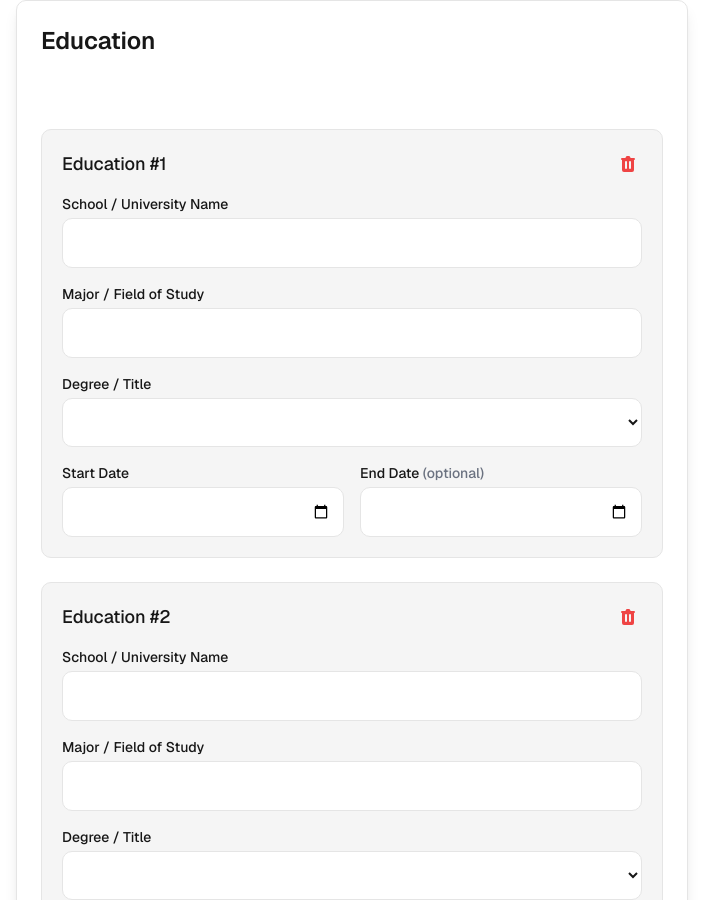
Test: EducationForm Component › Dynamiczne zarządzanie listą (FieldArray) › powinien pozwolić usunąć wpis
The width and height of the screenshot is (705, 900).
Expected: the 1st field showing "Szkoła 1" is shown, [62,218,642,268]
Expected: the 2nd field showing "Szkoła 2" is shown, [62,671,642,721]
Click the 1st button named "Remove education" at coordinates (628, 164), box [614,150,642,178]
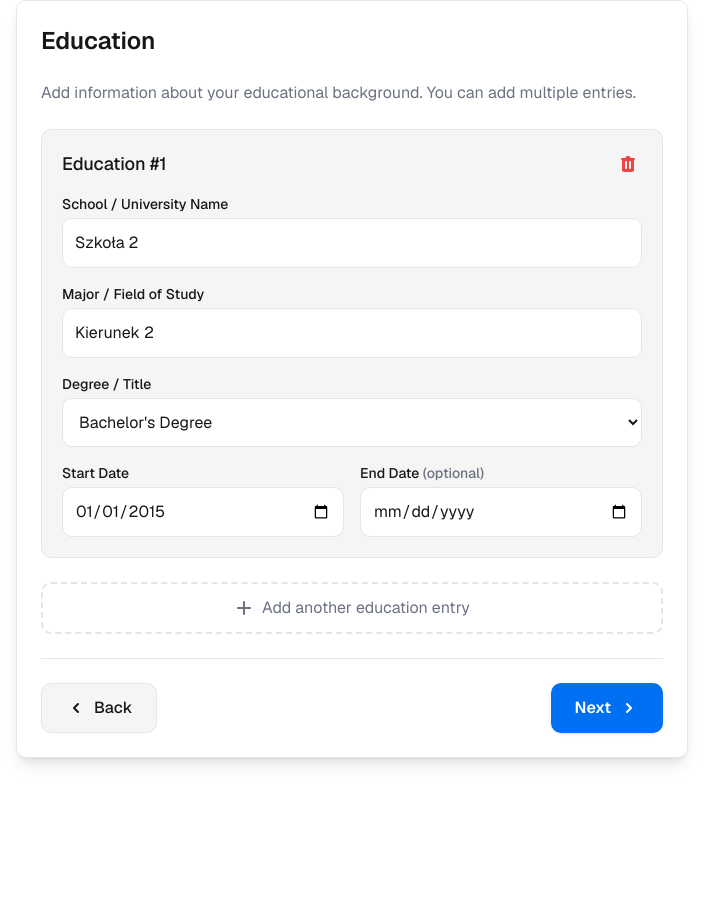
Expected: the field showing "Szkoła 1" is not shown
Now the field showing "Szkoła 2" is shown, box [62,218,642,268]
